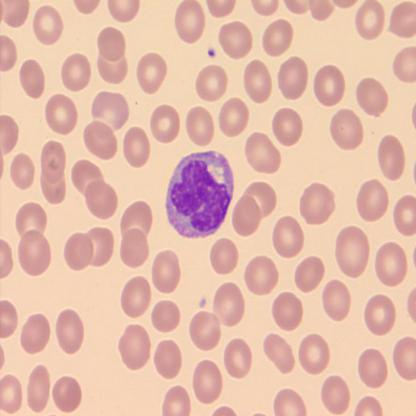Monocyte: (164, 148, 235, 238)
